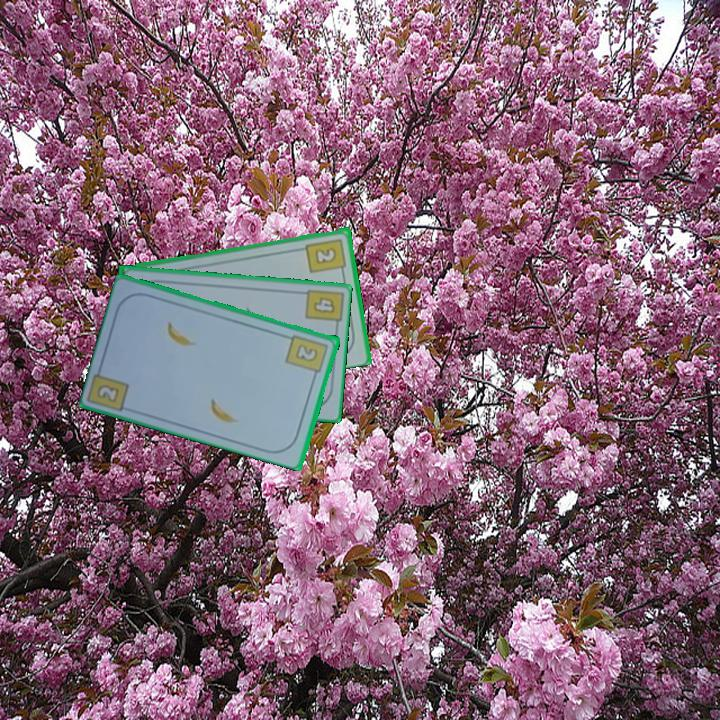2b: (283, 331, 331, 381), (303, 235, 349, 277), (93, 381, 122, 405)
4b: (310, 293, 338, 316)
